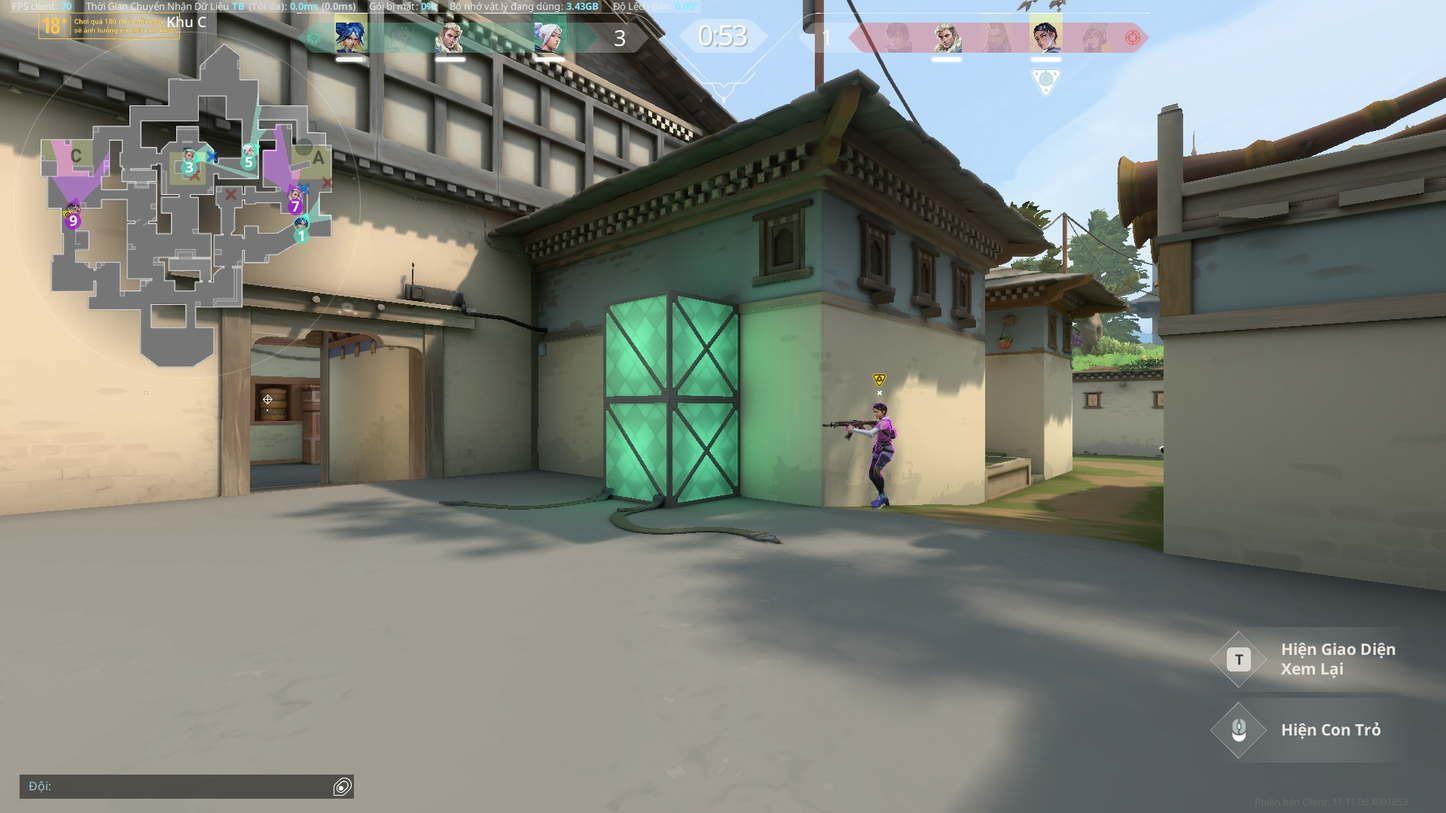body: (874, 418, 892, 443)
head: (873, 403, 887, 417)
